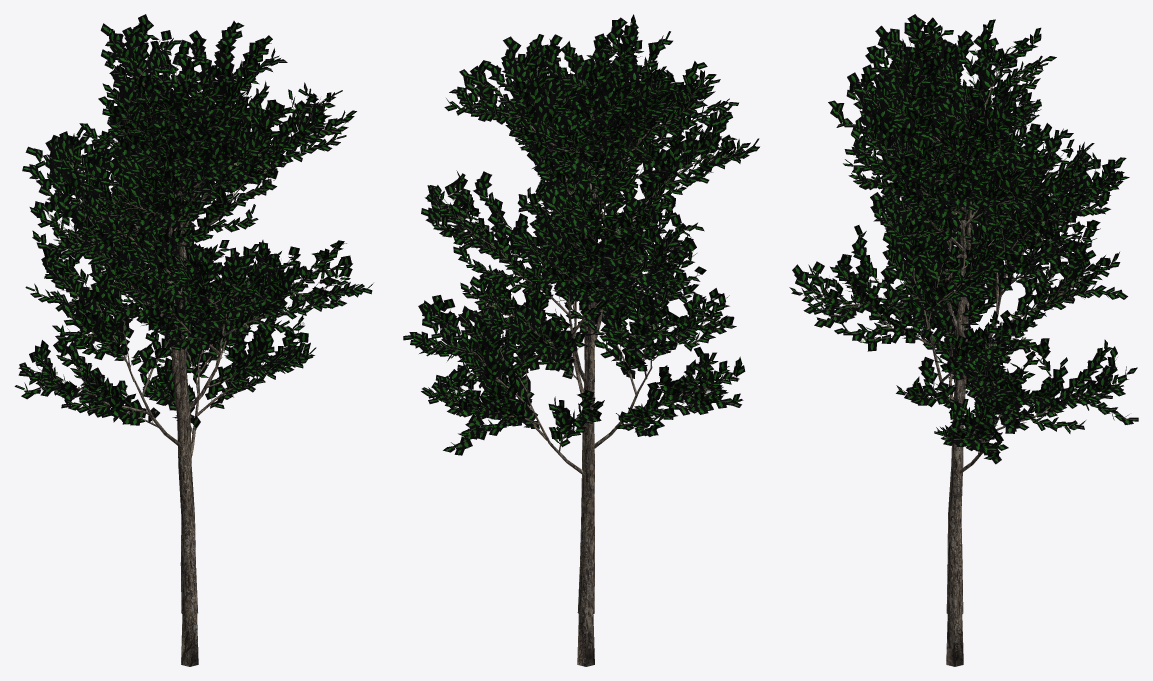
The model's file is tree.fbx.
3 views of the same model, side by side, from view 1: azimuth 30°, elevation 25°; view 2: azimuth 150°, elevation 25°; view 3: azimuth 270°, elevation 25° (orthographic).
Parts seen in each view (by area): view 1: leaves, tree; view 2: leaves, tree, flowers; view 3: leaves, tree.
Part boxes in pixels (left/top/right/bottom): leaves: left=14, top=14, right=373, bottom=429; tree: left=24, top=31, right=359, bottom=666; leaves: left=403, top=14, right=759, bottom=455; tree: left=419, top=24, right=746, bottom=666; flowers: left=429, top=127, right=727, bottom=435; leaves: left=789, top=14, right=1138, bottom=464; tree: left=798, top=28, right=1128, bottom=666.
Bounding box in the file's own units: 756 × 1453 × 733.
Materials: 3 (3 with a texture image).
